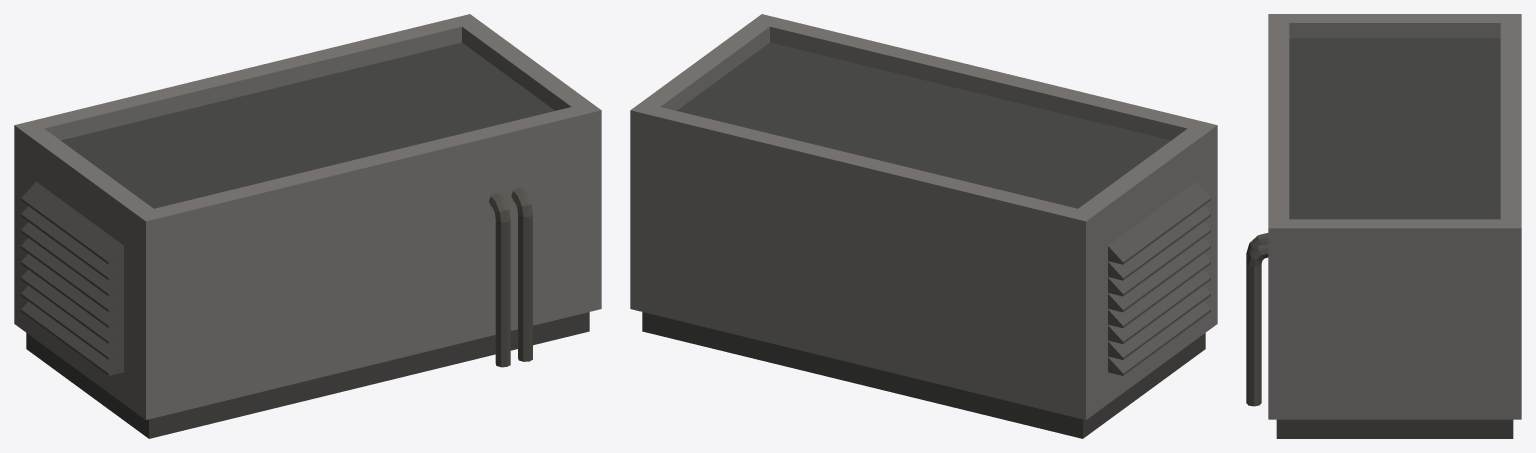
The model's file is SM_Props_Industrial_Equipment_01.fbx.
3 views of the same model, side by side, from view 1: azimuth 30°, elevation 25°; view 2: azimuth 150°, elevation 25°; view 3: azimuth 270°, elevation 25° (orthographic). The views are drawn at different scales.
Visible parts, largest first — view 1: SM_Props_Industrial_Equipment_01; view 2: SM_Props_Industrial_Equipment_01; view 3: SM_Props_Industrial_Equipment_01.
Boxes of the visible parts, <box> form: SM_Props_Industrial_Equipment_01: <box>14,14,601,438</box>; SM_Props_Industrial_Equipment_01: <box>630,14,1217,438</box>; SM_Props_Industrial_Equipment_01: <box>1246,14,1521,438</box>.
Size of the model in its own units: 620 by 280 by 326.
